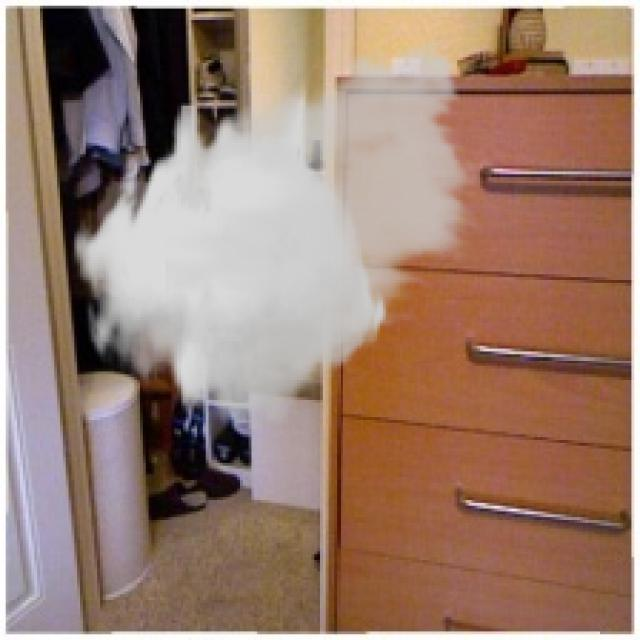smoke: (71, 29, 483, 428)
